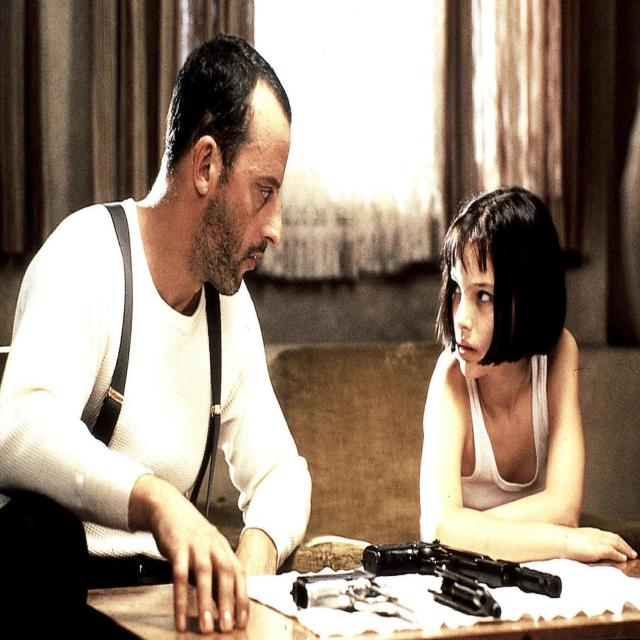no-earmuff: (192, 133, 216, 197)
